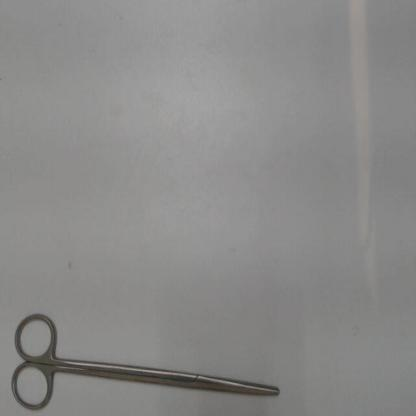9 Metzenbaum Scissors: (9, 305, 283, 413)
